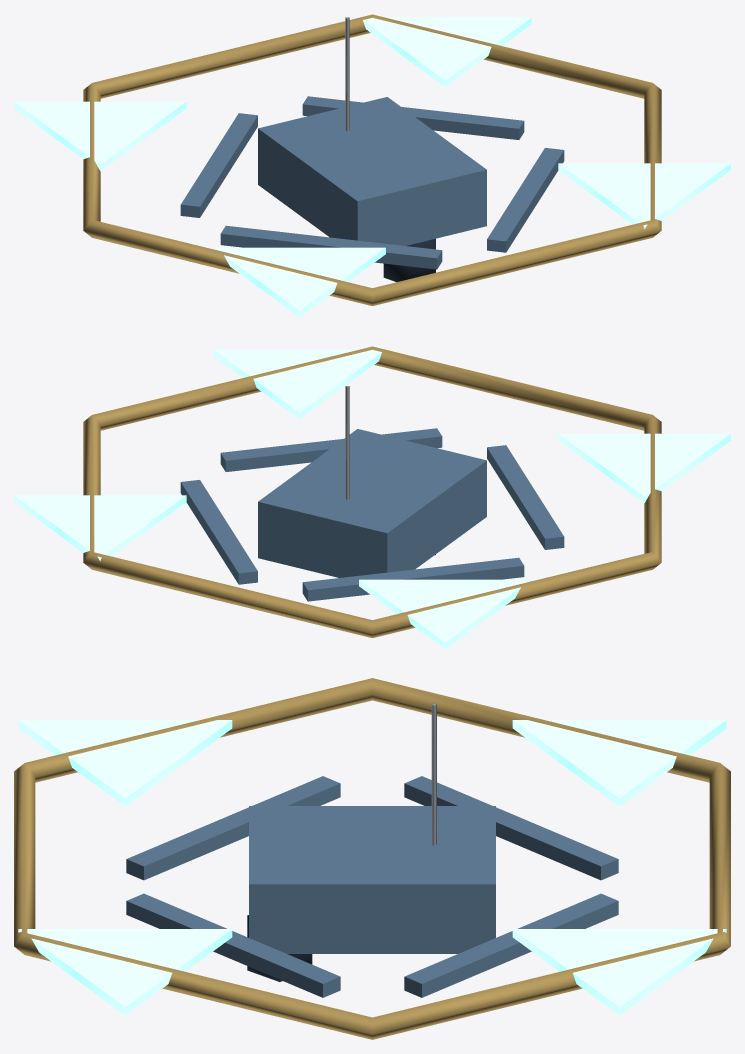
Rendered from veh_air_drone_recon_a10_lod2.glb.
3 renders of one model, top to bottom at view 1: azimuth 30°, elevation 25°; view 2: azimuth 150°, elevation 25°; view 3: azimuth 270°, elevation 25°, orthographic. The views are drawn at different scales.
Visible parts, largest first — view 1: body, rotor_3, rotor_0, rotor_2, rotor_1; view 2: body, rotor_1, rotor_2, rotor_0, rotor_3; view 3: body, rotor_1, rotor_3, rotor_0, rotor_2.
Boxes of the visible parts, bbox=[...] form: body: bbox=[83, 14, 661, 305]; rotor_3: bbox=[14, 101, 186, 171]; rotor_0: bbox=[558, 163, 730, 228]; rotor_2: bbox=[359, 17, 531, 87]; rotor_1: bbox=[213, 247, 385, 317]; body: bbox=[83, 346, 661, 637]; rotor_1: bbox=[558, 433, 730, 503]; rotor_2: bbox=[14, 495, 186, 560]; rotor_0: bbox=[213, 349, 385, 419]; rotor_3: bbox=[359, 579, 531, 649]; body: bbox=[14, 678, 730, 1039]; rotor_1: bbox=[18, 720, 232, 806]; rotor_3: bbox=[512, 720, 726, 806]; rotor_0: bbox=[18, 929, 232, 1015]; rotor_2: bbox=[512, 929, 726, 1015].
Size of the model in its own units: 2.68 by 0.99 by 2.32.
